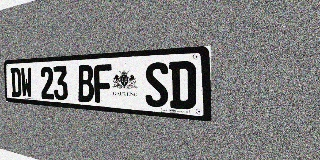2: (40, 66, 54, 100)
3: (53, 66, 68, 101)
B: (77, 65, 94, 103)
D: (169, 61, 196, 110), (10, 68, 21, 97)
F: (94, 64, 112, 104)
S: (145, 62, 169, 108)
W: (20, 67, 32, 98)
